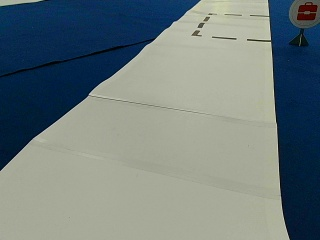company: (288, 0, 319, 28)
